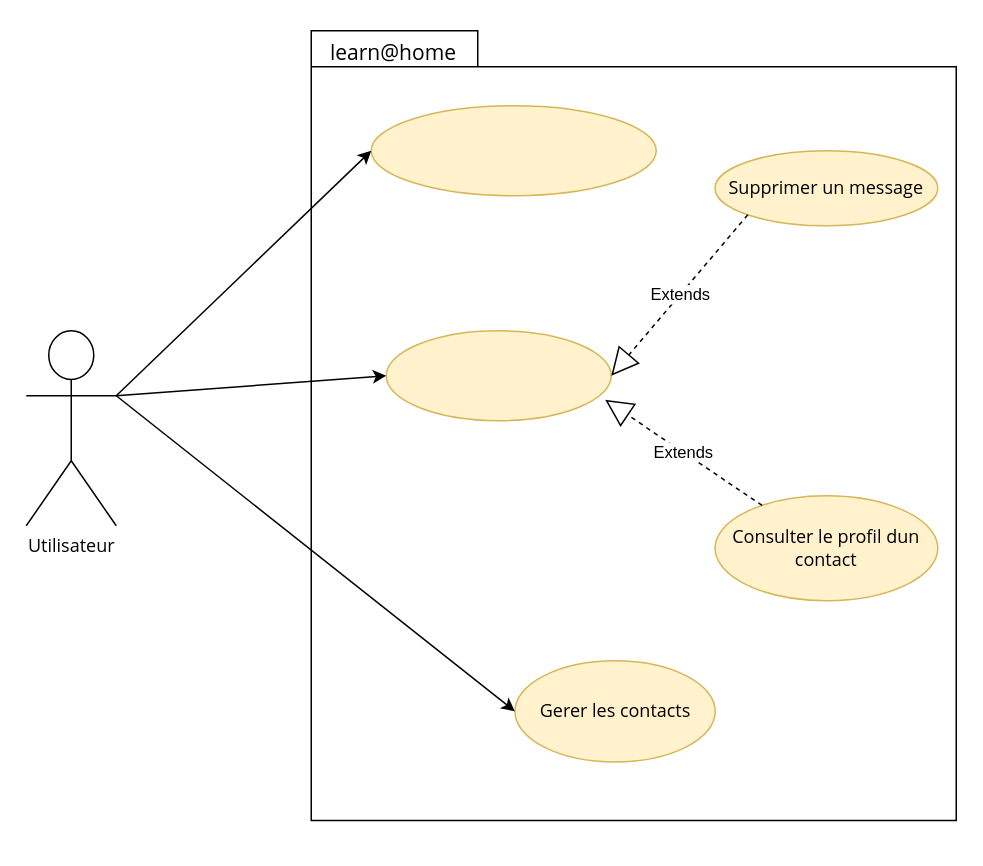
Some shapes in this 983 by 866 pixel diagram are drawn without their labels. The shapes that lost their labels are listed below. From the top down, each one's centre as x and y in pixels, then its label:
At (x=513, y=150): "Afficher les derniers messages".
At (x=498, y=375): "Discuter avec un contact".
